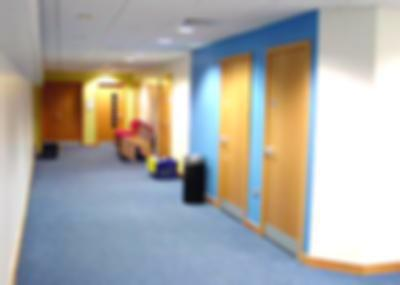Bote de Basura: (184, 152, 206, 205)
Puerta: (264, 47, 304, 258), (219, 55, 250, 224), (43, 81, 84, 145), (97, 84, 123, 143), (159, 75, 172, 154)
